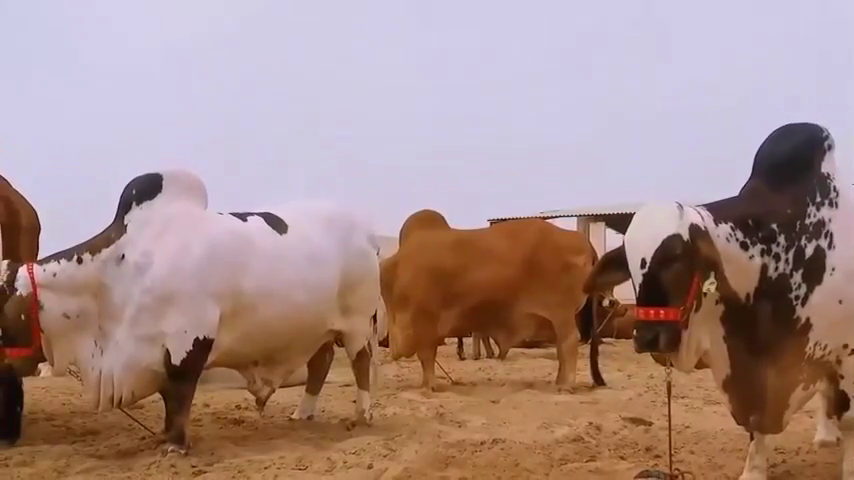bo: (5, 155, 382, 473), (581, 117, 850, 475), (371, 194, 611, 402)
